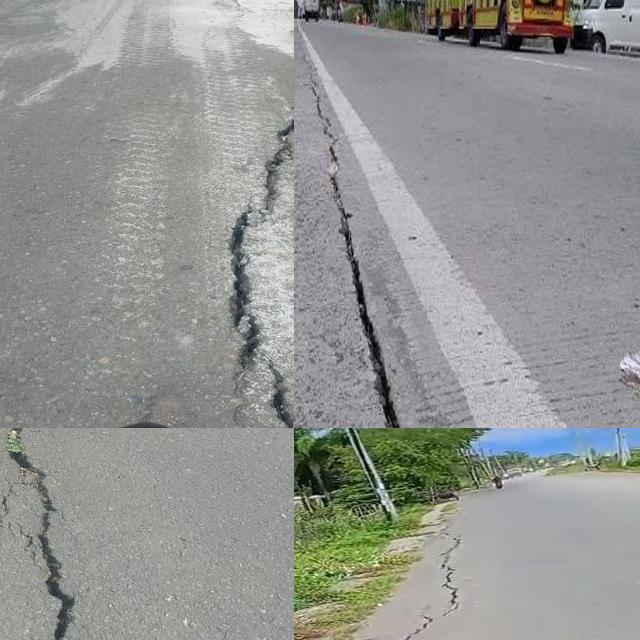Memanjang: (294, 80, 465, 428), (206, 65, 294, 428), (0, 428, 89, 640), (380, 532, 526, 640)
